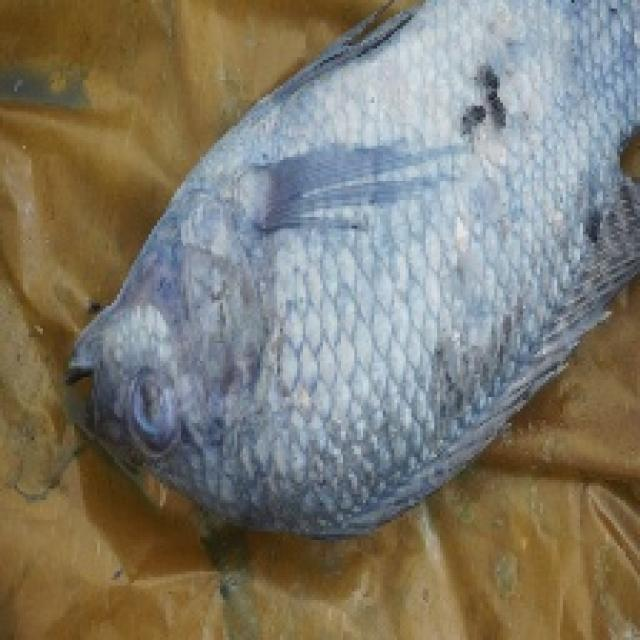Non-Fresh: (55, 59, 616, 491), (115, 351, 192, 465)
